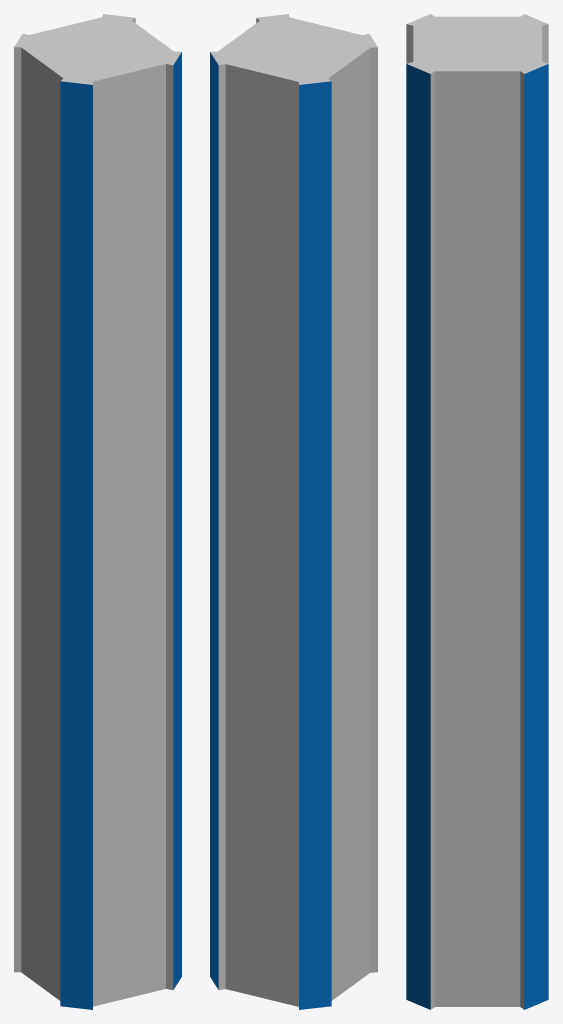
File: Building_Block.fbx
3 renders of one model, left to right at view 1: azimuth 30°, elevation 25°; view 2: azimuth 150°, elevation 25°; view 3: azimuth 270°, elevation 25°, orthographic.
Visible parts, largest first — view 1: Cube; view 2: Cube; view 3: Cube.
Boxes of the visible parts, box(x1,y1,x2,y2) form: Cube: box(14, 14, 181, 1009); Cube: box(210, 14, 377, 1009); Cube: box(406, 14, 548, 1009).
Bounding box in the file's own units: 17.6 × 128 × 17.6.
